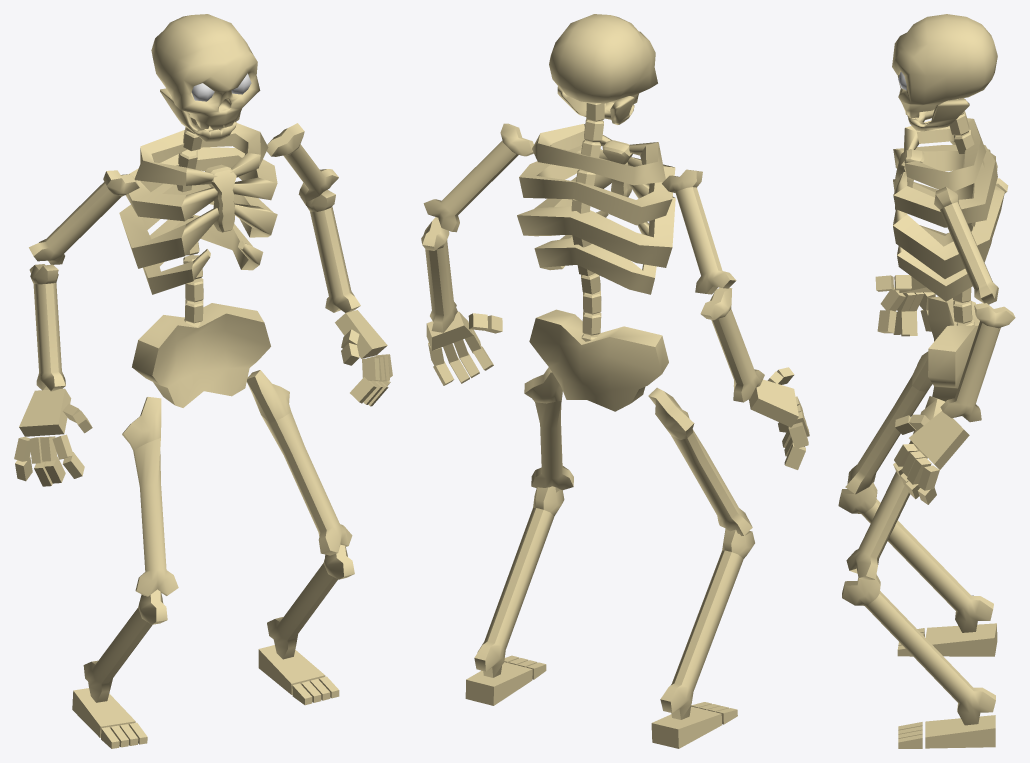
File: skeleton_STANDARD_explode.fbx
The picture shows the model from 3 angles, left to right: view 1: azimuth 30°, elevation 25°; view 2: azimuth 150°, elevation 25°; view 3: azimuth 270°, elevation 25°; orthographic projection.
Visible parts, largest first — view 1: chest, pelvis, skull, tibiaR, tibiaL, handl, handr, upperarmL, forearmL, forearmR2, fibiaR, forearmR (+5 smaller); view 2: chest, pelvis, skull, forearmR2, fibiaR, tibiaL, handr, upperarmL, upperarmR, tibiaR, handl, spine (+5 smaller); view 3: chest, skull, fibiaR, forearmR2, handr, pelvis, forearmR, tibiaL, tibiaR, handl, footR, upperarmR (+3 smaller).
Boxes of the visible parts, x1,y1,x2,y2 form: chest: (119,123,277,294); pelvis: (132,303,270,407); skull: (151,14,260,130); tibiaR: (246,370,352,555); tibiaL: (122,397,178,596); handl: (14,388,92,486); handr: (335,310,392,406); upperarmL: (29,170,139,264); forearmL: (29,264,65,391); forearmR2: (83,589,167,702); fibiaR: (267,544,354,659); forearmR: (300,190,360,312); chest: (517,124,675,294); pelvis: (529,309,668,411); skull: (549,14,657,104); forearmR2: (660,528,754,719); fibiaR: (474,486,564,677); tibiaL: (648,387,752,535); handr: (426,311,502,385); upperarmL: (662,169,736,294); upperarmR: (423,123,533,232); tibiaR: (524,367,573,490); handl: (749,367,809,469); spine: (571,102,604,341); chest: (893,118,1004,301); skull: (892,14,997,117); fibiaR: (842,574,995,725); forearmR2: (838,482,993,632); handr: (893,411,969,504); pelvis: (928,296,979,401); forearmR: (940,303,1015,422); tibiaL: (845,351,932,494); tibiaR: (846,396,945,579); handl: (875,275,935,336); footR: (898,715,995,748); upperarmR: (934,187,998,304).
Bounding box in the file's own units: 96.32 × 167 × 39.7.
